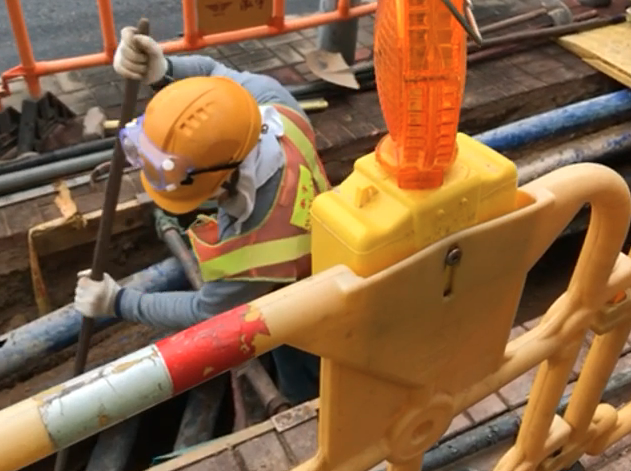Hard Hat: (122, 76, 264, 217)
